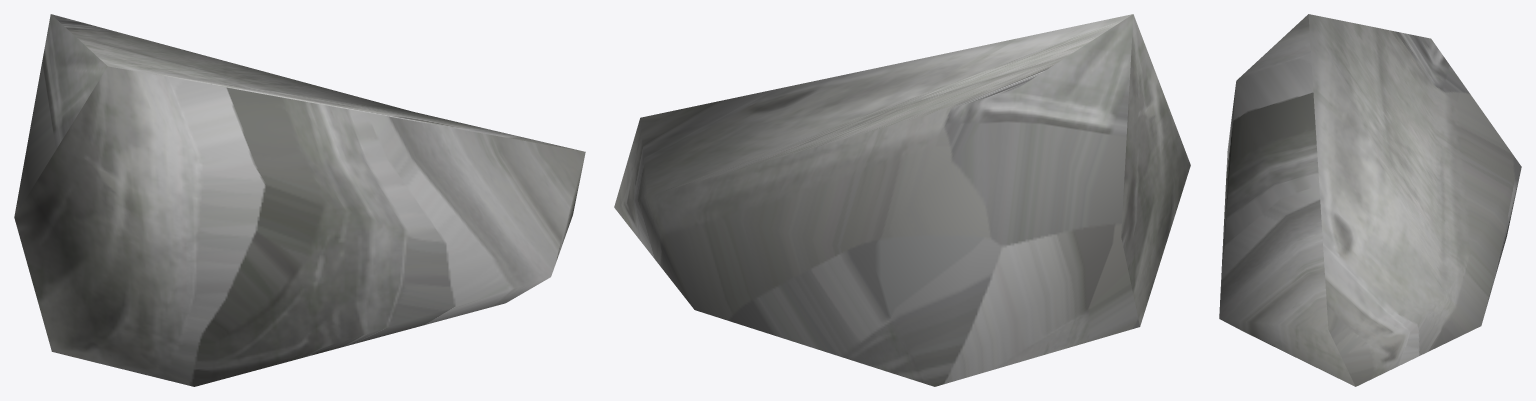
Rendered from 5_R_Grande_LOD_2.fbx.
3 renders of one model, left to right at view 1: azimuth 30°, elevation 25°; view 2: azimuth 150°, elevation 25°; view 3: azimuth 270°, elevation 25°, orthographic. The views are drawn at different scales.
Parts seen in each view (by area): view 1: 5_R_Grande_LOD_2; view 2: 5_R_Grande_LOD_2; view 3: 5_R_Grande_LOD_2.
Part boxes in pixels (left/top/right/bottom): 5_R_Grande_LOD_2: left=14, top=14, right=585, bottom=386; 5_R_Grande_LOD_2: left=614, top=14, right=1190, bottom=386; 5_R_Grande_LOD_2: left=1219, top=14, right=1521, bottom=386.
Bounding box in the file's own units: 2384 × 1248 × 1672.
